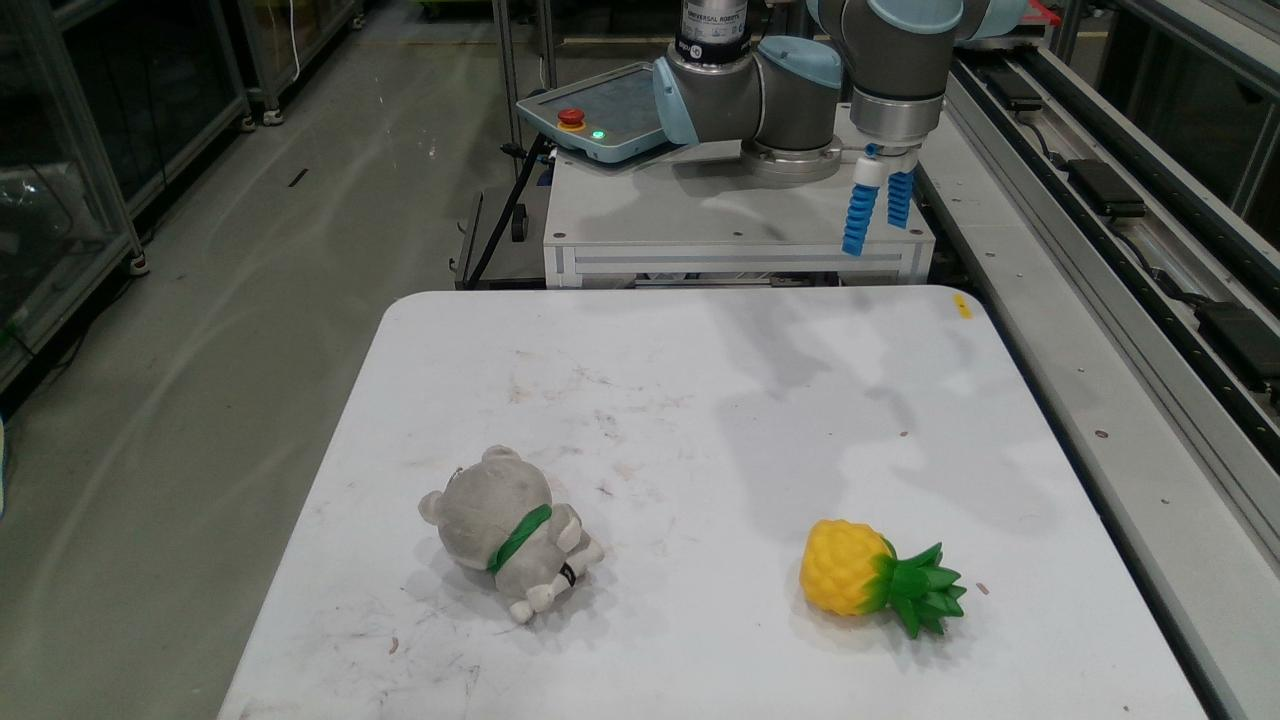UR5: (651, 0, 1026, 187)
gripper_left: (841, 185, 879, 256)
gripper_right: (887, 170, 913, 229)
target: (417, 445, 604, 621), (798, 519, 968, 640)
